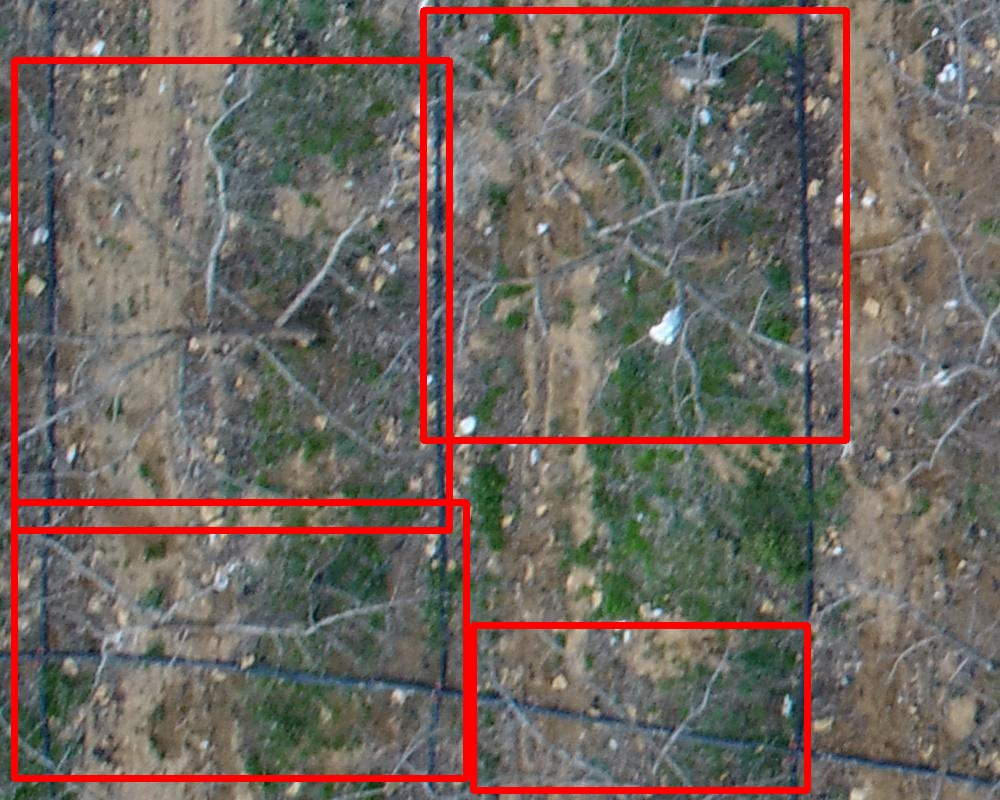apple: (14, 60, 449, 530), (423, 10, 846, 440), (14, 502, 466, 778), (473, 625, 807, 790)
